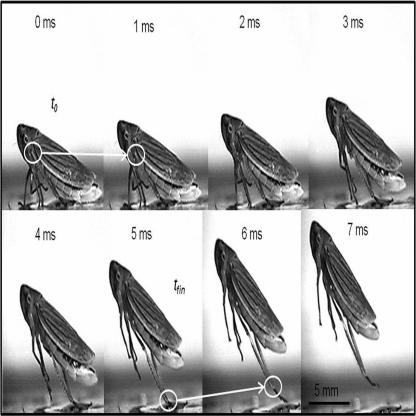Green-Leafhopper: (307, 214, 381, 380), (212, 236, 286, 390), (324, 84, 412, 210), (18, 280, 98, 410), (107, 255, 182, 391), (17, 113, 101, 209), (219, 111, 303, 207), (115, 116, 198, 206)
